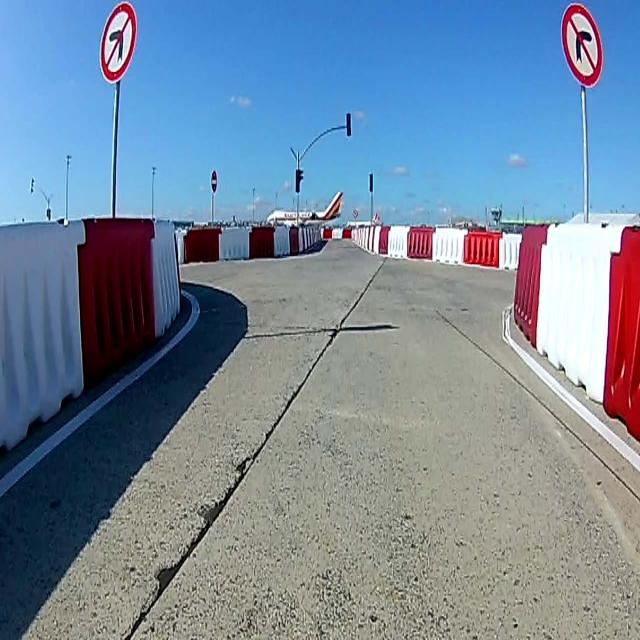sagadonulmez: (562, 5, 602, 90)
soladonulmez: (99, 8, 134, 80)
